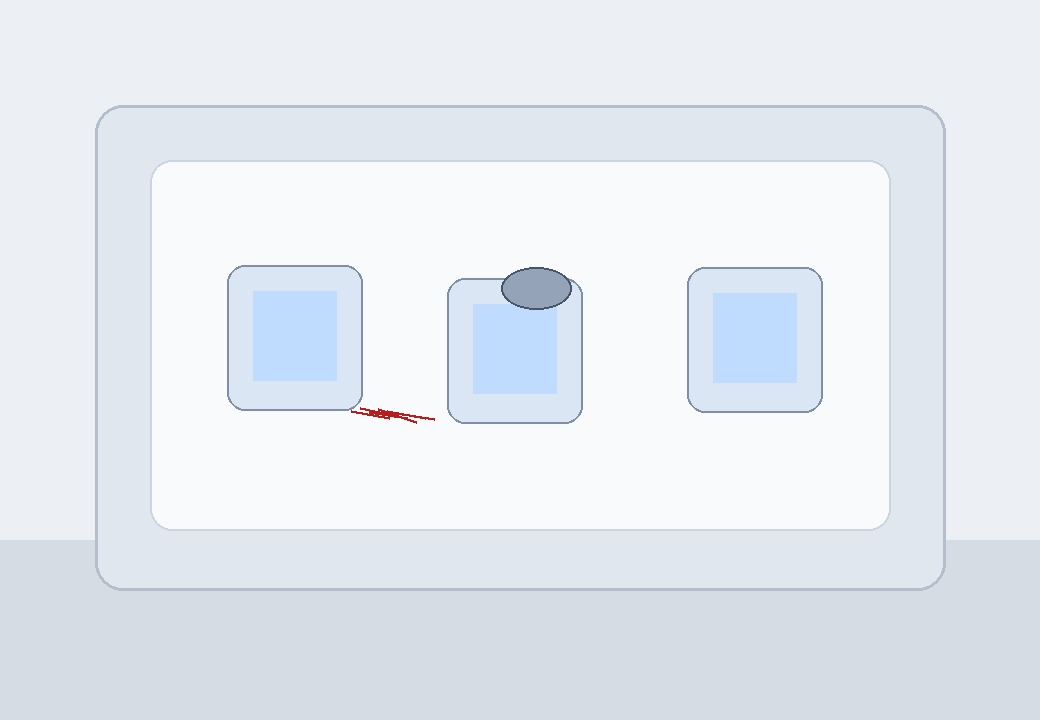dent: (500, 310, 585, 366)
ok_region: (277, 260, 407, 390)
scratch: (320, 285, 430, 330)
stain: (692, 245, 787, 307)
